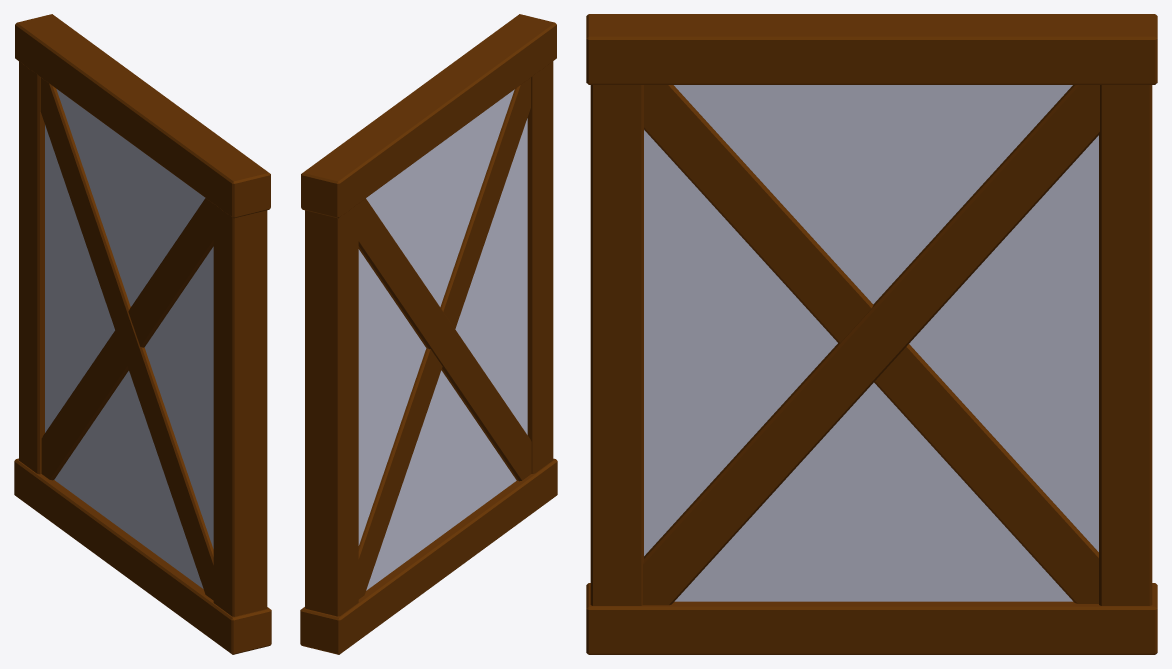
File: Wall1.fbx
3 views of the same model, side by side, from view 1: azimuth 30°, elevation 25°; view 2: azimuth 150°, elevation 25°; view 3: azimuth 270°, elevation 25° (orthographic). The views are drawn at different scales.
Parts seen in each view (by area): view 1: Plank.004; view 2: Plank.004; view 3: Plank.004.
Part boxes in pixels (bbox=[...]): Plank.004: bbox=[14, 14, 271, 654]; Plank.004: bbox=[300, 14, 557, 654]; Plank.004: bbox=[586, 14, 1157, 654].
Size of the model in its own units: 22.2 by 247 by 207.
